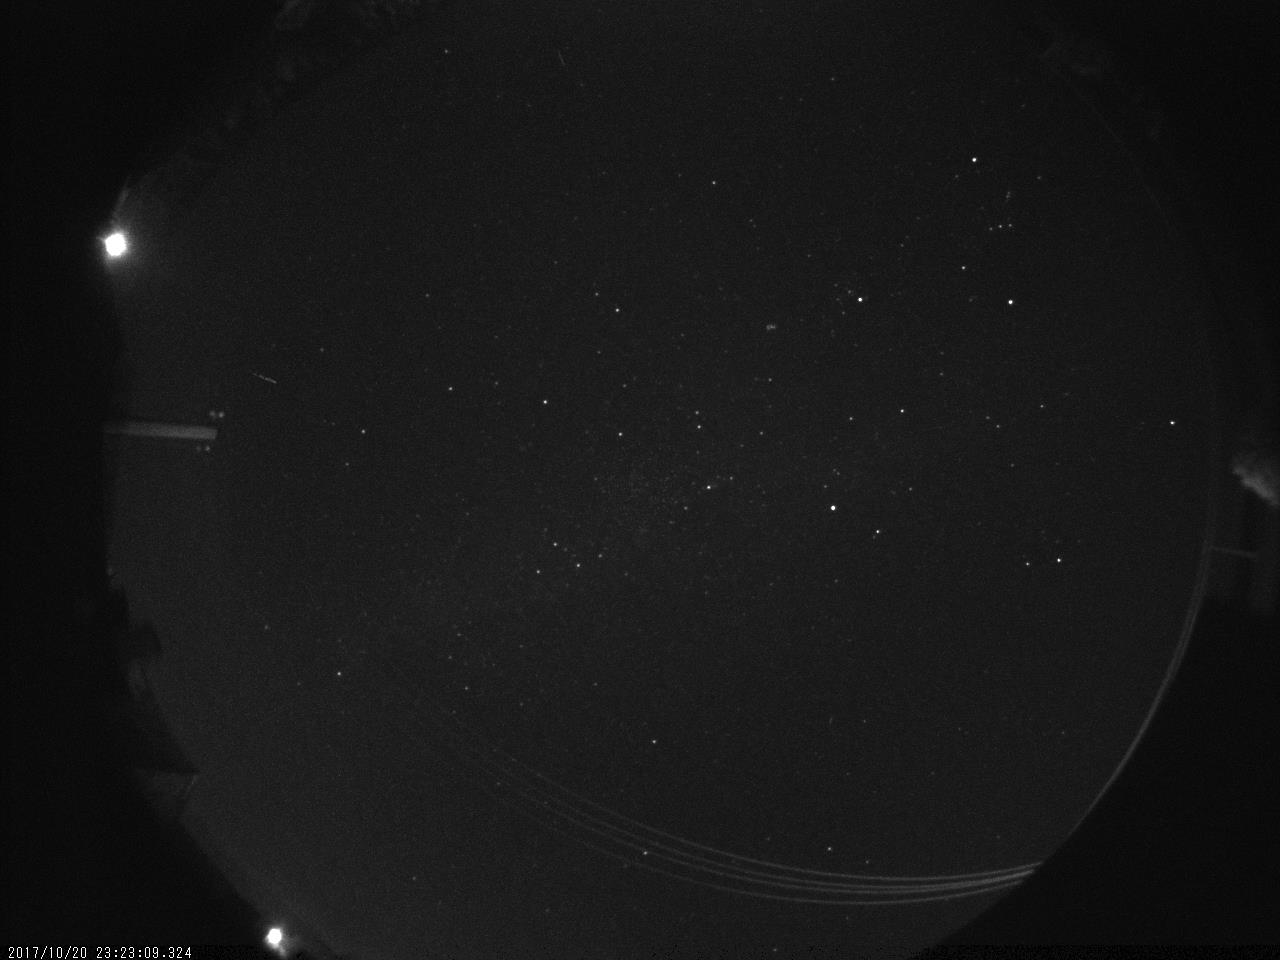meteor: (224, 357, 307, 407)
